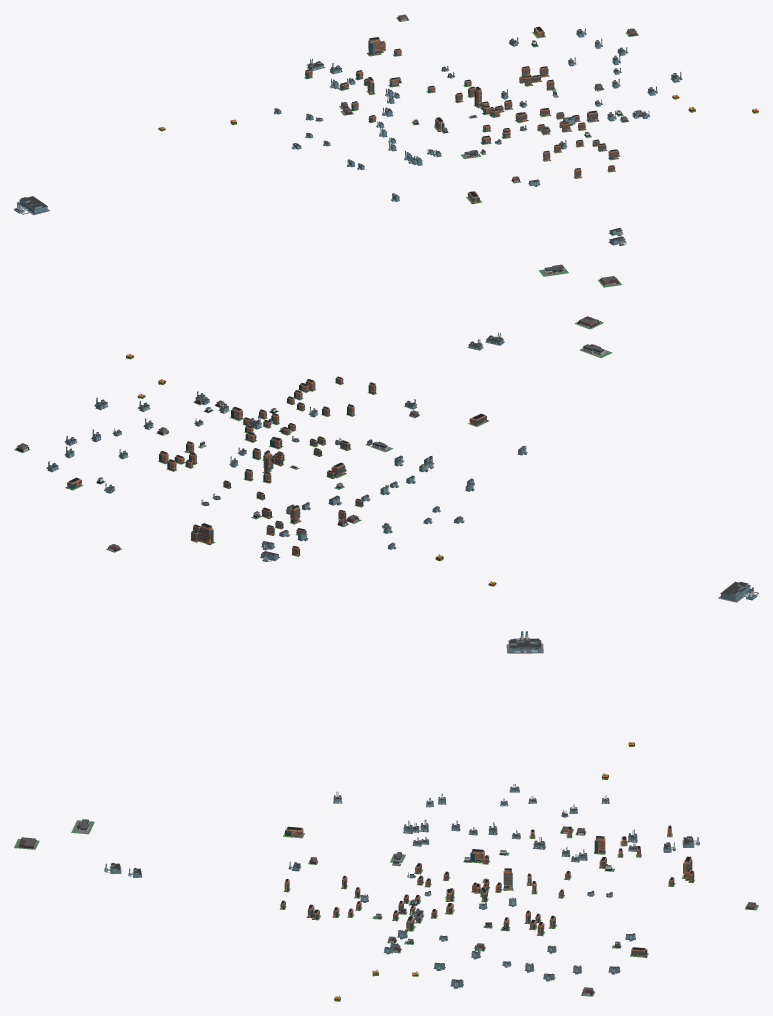
File: miami2.glb
3 renders of one model, top to bottom at view 1: azimuth 30°, elevation 25°; view 2: azimuth 150°, elevation 25°; view 3: azimuth 270°, elevation 25°, orthographic. The views are drawn at different scales.
Visible parts, largest first — view 1: miami; view 2: miami; view 3: miami.
Boxes of the visible parts, x1=… form: miami: x1=14, y1=14, x2=758, y2=287; miami: x1=14, y1=316, x2=758, y2=602; miami: x1=14, y1=631, x2=758, y2=1001.
Bounding box in the file's own units: 2102 × 55.48 × 1825.
Materials: 8 (8 with a texture image).
